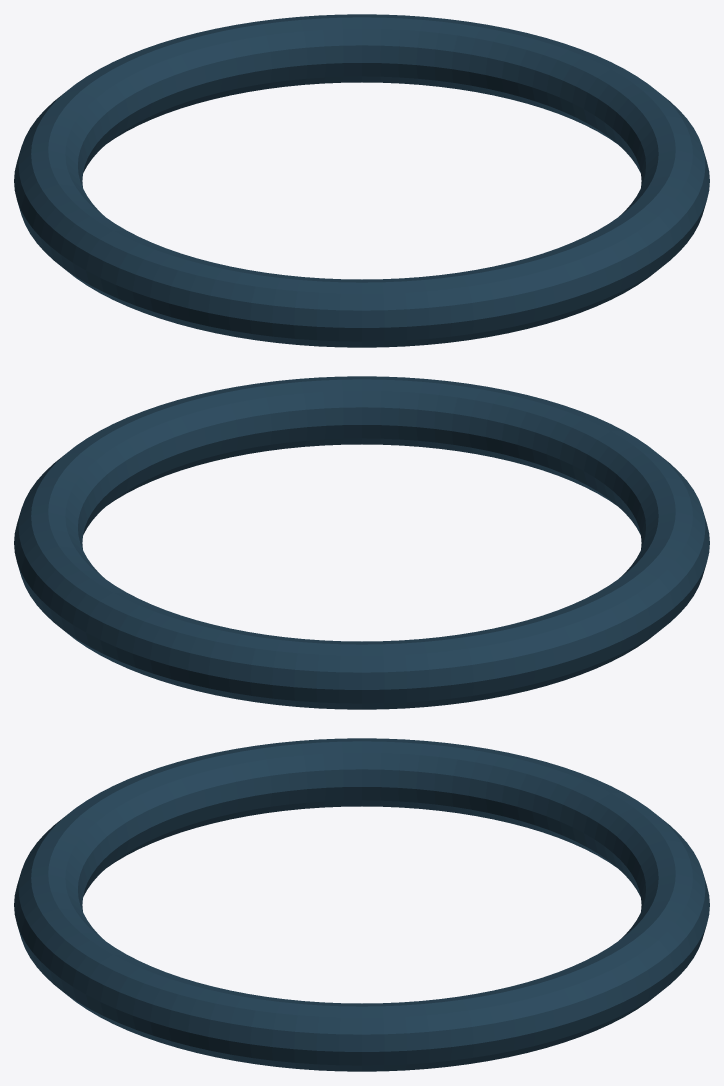
File: SM_Keeper_Nun_Ring.fbx
3 views of the same model, one above another, from view 1: azimuth 30°, elevation 25°; view 2: azimuth 150°, elevation 25°; view 3: azimuth 270°, elevation 25° (orthographic).
Visible parts, largest first — view 1: SM_Keeper_Nun_Ring; view 2: SM_Keeper_Nun_Ring; view 3: SM_Keeper_Nun_Ring.
Part boxes in pixels (box(x1,y1,x2,y2)): SM_Keeper_Nun_Ring: box(14, 14, 709, 347); SM_Keeper_Nun_Ring: box(14, 376, 709, 709); SM_Keeper_Nun_Ring: box(14, 738, 709, 1071).
Bounding box in the file's own units: 6.1 × 0.6 × 6.1.
